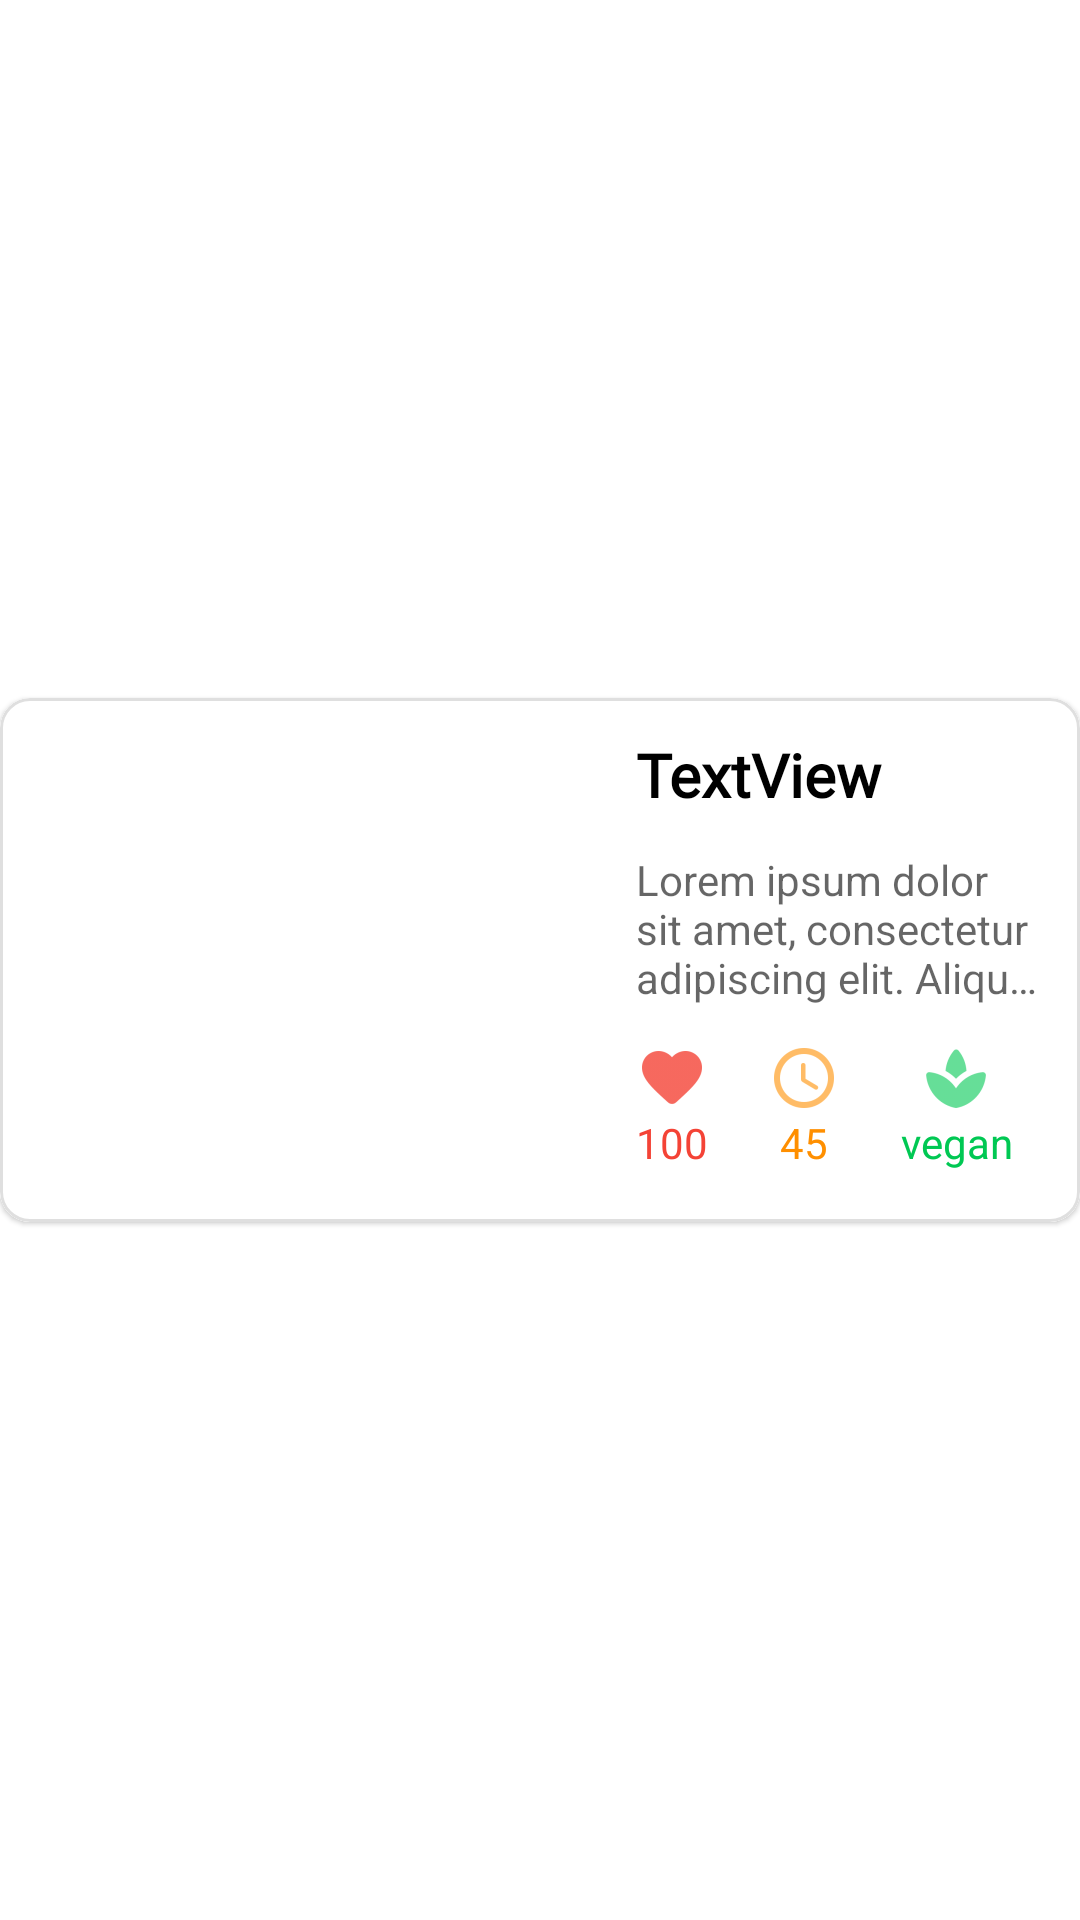

Icons on this 1080×1920 Android screen, each with its box as (x1, y1, x2, y2):
heart: (642, 1051, 702, 1104)
leaf: (926, 1049, 986, 1108)
time: (774, 1048, 834, 1108)
